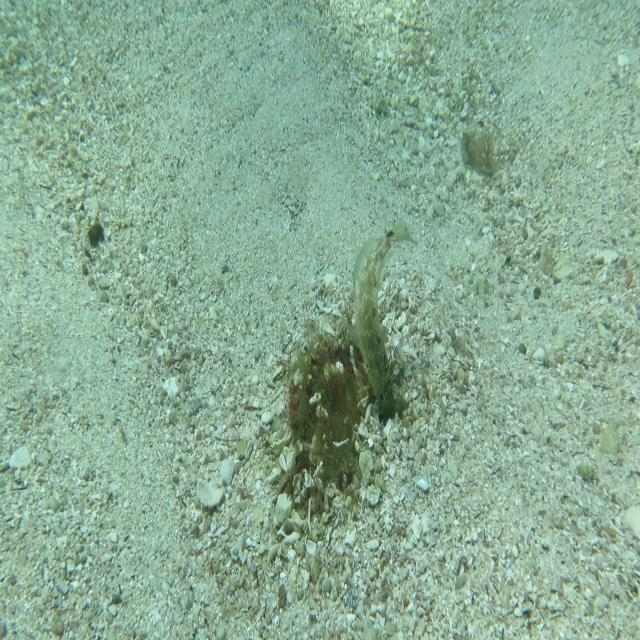NIP_IN: (344, 220, 429, 418)
core_nest: (332, 328, 372, 369)
nest: (272, 284, 408, 516)
vegetation: (460, 110, 496, 180), (86, 220, 110, 247)
